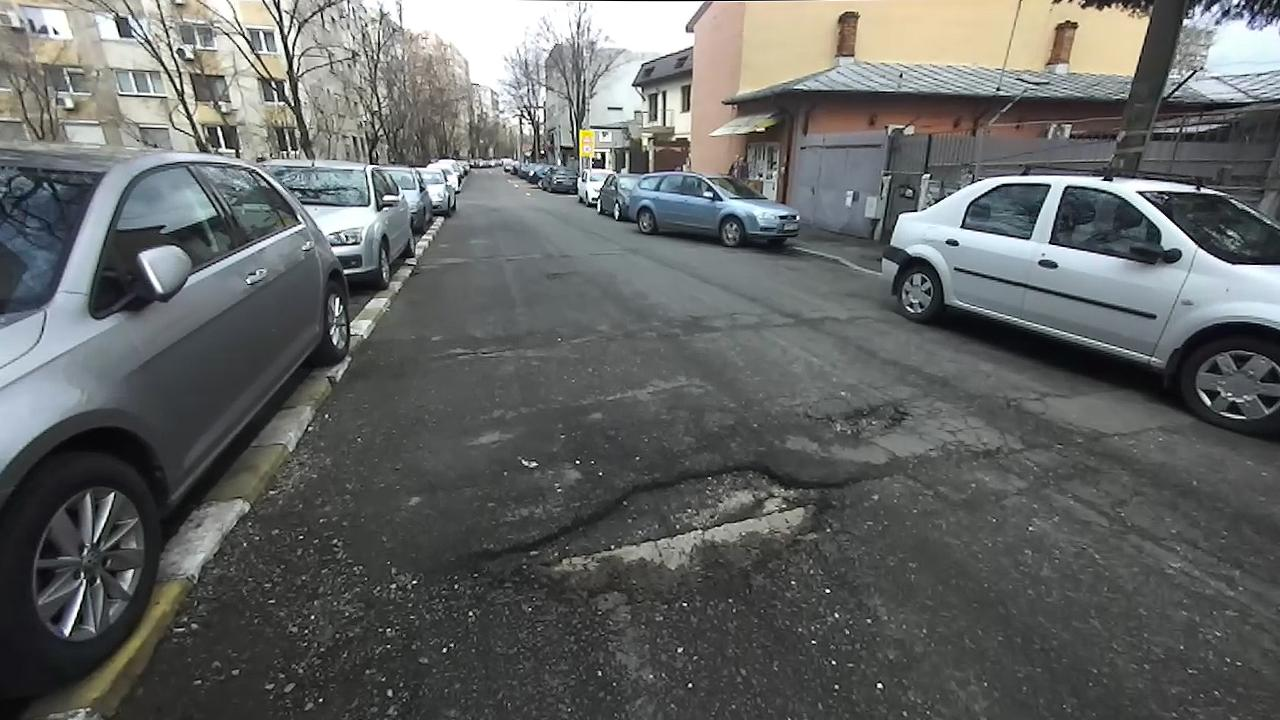pothole: (458, 461, 873, 612), (806, 393, 918, 443), (440, 342, 520, 368)
